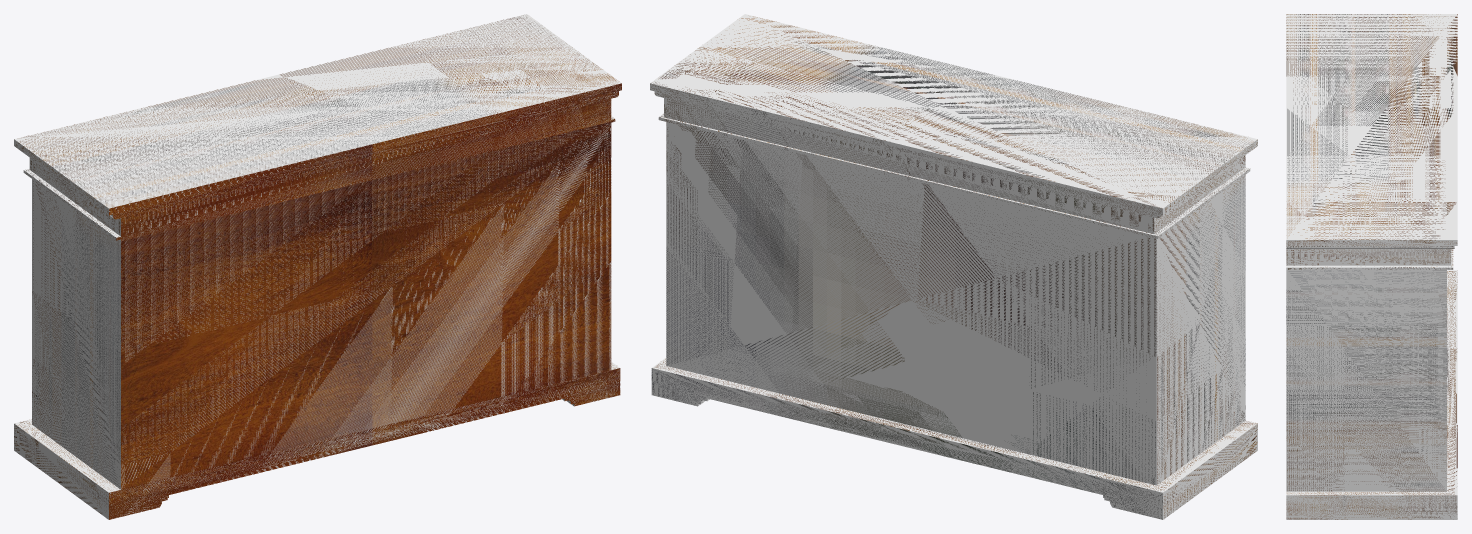
3 renders of one model, left to right at view 1: azimuth 30°, elevation 25°; view 2: azimuth 150°, elevation 25°; view 3: azimuth 270°, elevation 25°, orthographic. The views are drawn at different scales.
Visible parts, largest first — view 1: mesh1_mesh1-geometry; view 2: mesh1_mesh1-geometry; view 3: mesh1_mesh1-geometry.
Boxes of the visible parts, box(x1,y1,x2,y2) form: mesh1_mesh1-geometry: box(14, 14, 621, 519); mesh1_mesh1-geometry: box(650, 14, 1257, 519); mesh1_mesh1-geometry: box(1286, 14, 1457, 519).
Bounding box in the file's own units: 0.8337 × 0.4835 × 0.2668.
